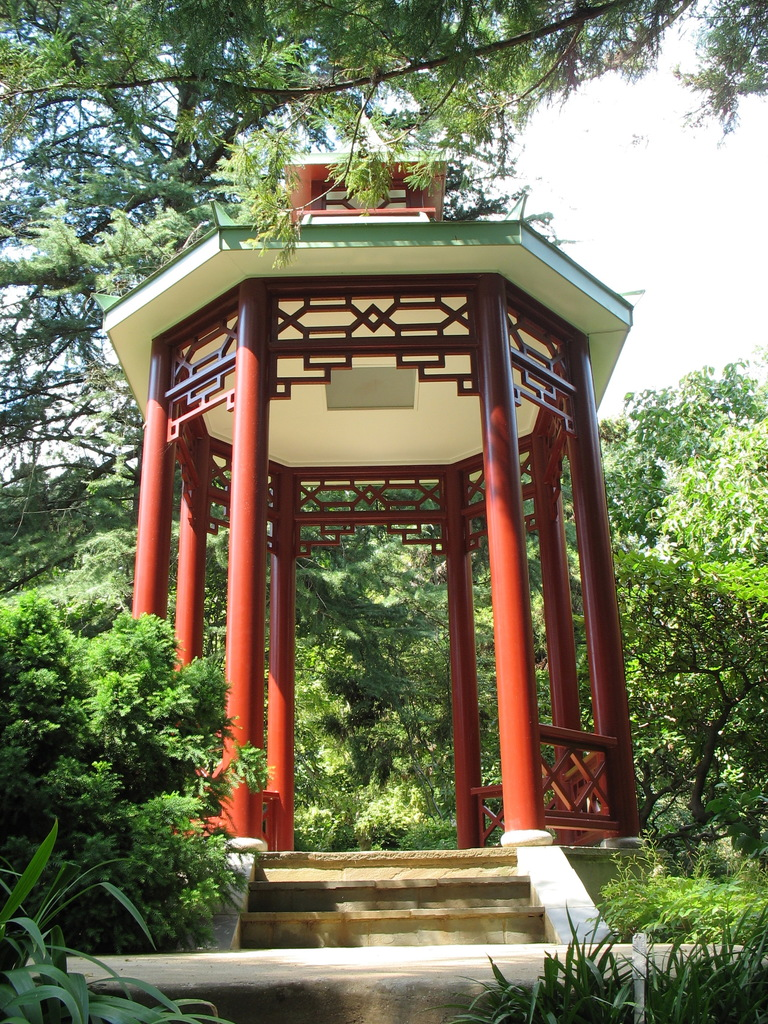Tree: (0, 0, 765, 954)
